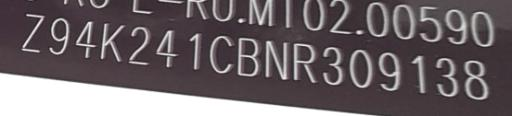letter: (262, 36, 294, 84), (461, 56, 495, 101), (319, 42, 351, 87), (97, 19, 129, 63), (207, 31, 237, 77), (291, 39, 321, 85), (375, 48, 405, 94), (432, 52, 460, 100), (234, 35, 264, 79), (125, 23, 153, 67), (152, 25, 180, 69), (18, 12, 48, 53), (349, 45, 375, 88), (410, 49, 432, 99), (72, 18, 98, 59), (46, 16, 72, 55), (184, 32, 206, 70)
